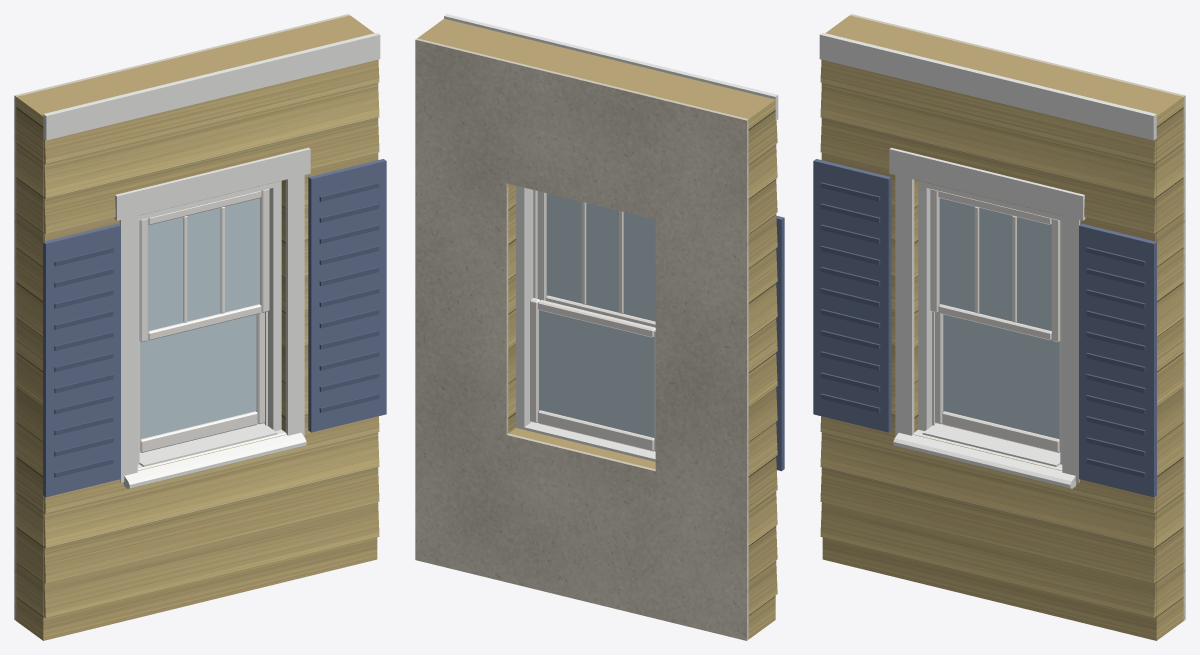
File: wall_siding_window.glb
The picture shows the model from 3 angles, left to right: view 1: azimuth 30°, elevation 25°; view 2: azimuth 150°, elevation 25°; view 3: azimuth 330°, elevation 25°; orthographic projection.
Visible parts, largest first — view 1: wall_siding_window_siding, wall_siding_window_shutter, wall_siding_window_trim, wall_siding_window_glass, wall_siding_window_sash, wall_siding_window_shutter_dark, wall_siding_window_frame, wall_siding_window_plaster; view 2: wall_siding_window_plaster, wall_siding_window_siding, wall_siding_window_glass, wall_siding_window_sash, wall_siding_window_frame, wall_siding_window_trim, wall_siding_window_shutter; view 3: wall_siding_window_siding, wall_siding_window_shutter, wall_siding_window_trim, wall_siding_window_glass, wall_siding_window_sash, wall_siding_window_shutter_dark, wall_siding_window_frame, wall_siding_window_plaster.
Boxes of the visible parts, x1,y1,x2,y2 form: wall_siding_window_siding: (16, 15, 379, 640); wall_siding_window_shutter: (43, 159, 386, 497); wall_siding_window_trim: (43, 32, 380, 488); wall_siding_window_glass: (140, 198, 260, 438); wall_siding_window_sash: (139, 189, 269, 452); wall_siding_window_shutter_dark: (54, 182, 379, 477); wall_siding_window_frame: (137, 181, 281, 464); wall_siding_window_plaster: (14, 14, 349, 620); wall_siding_window_plaster: (415, 38, 748, 640); wall_siding_window_siding: (417, 18, 777, 639); wall_siding_window_glass: (539, 193, 655, 437); wall_siding_window_sash: (530, 191, 655, 451); wall_siding_window_frame: (516, 185, 537, 429); wall_siding_window_trim: (444, 14, 778, 461); wall_siding_window_shutter: (776, 215, 784, 471); wall_siding_window_siding: (820, 15, 1183, 640); wall_siding_window_shutter: (813, 159, 1156, 497); wall_siding_window_trim: (819, 32, 1156, 488); wall_siding_window_glass: (939, 198, 1059, 438); wall_siding_window_sash: (930, 189, 1060, 452); wall_siding_window_shutter_dark: (820, 182, 1145, 477); wall_siding_window_frame: (918, 181, 1062, 464); wall_siding_window_plaster: (850, 14, 1185, 620).
Bounding box in the file's own units: 2.04 × 3.02 × 0.38.
8 materials, 2 textured.
